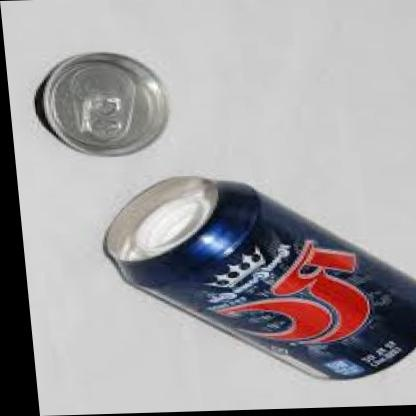trash: (104, 176, 415, 378)
